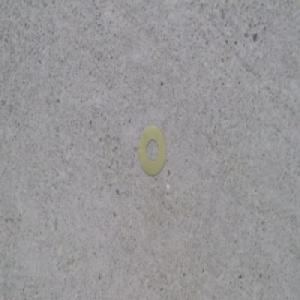Washer: (138, 124, 167, 178)
